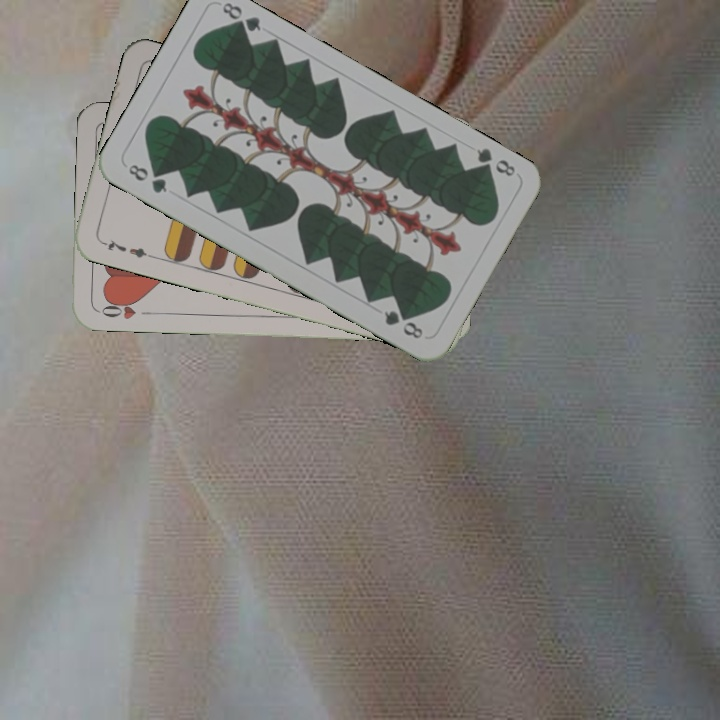E7: (97, 235, 155, 261)
G8: (124, 160, 170, 196), (471, 144, 518, 179)
HO: (95, 295, 154, 322)
